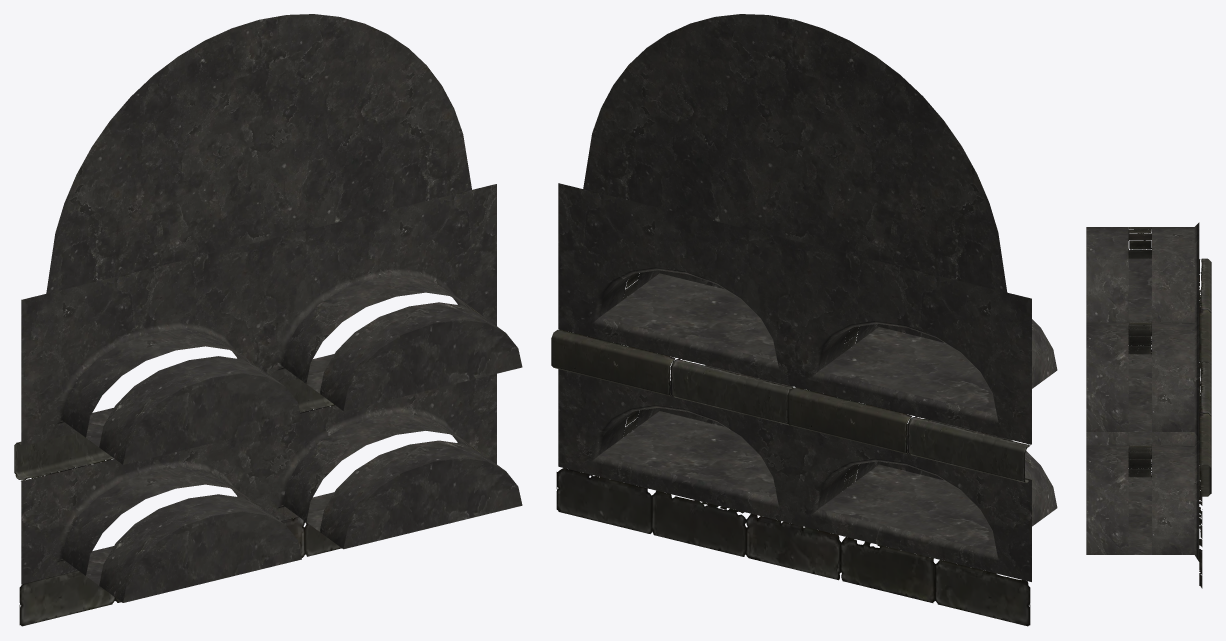
3 views of the same model, side by side, from view 1: azimuth 30°, elevation 25°; view 2: azimuth 150°, elevation 25°; view 3: azimuth 270°, elevation 25° (orthographic). The views are drawn at different scales.
Parts seen in each view (by area): view 1: SM_Dowdun_Vaulted_Wall_12x12_03_LOD0; view 2: SM_Dowdun_Vaulted_Wall_12x12_03_LOD0; view 3: SM_Dowdun_Vaulted_Wall_12x12_03_LOD0.
Boxes of the visible parts, box(x1,y1,x2,y2) form: SM_Dowdun_Vaulted_Wall_12x12_03_LOD0: box(14, 14, 522, 626); SM_Dowdun_Vaulted_Wall_12x12_03_LOD0: box(551, 14, 1057, 626); SM_Dowdun_Vaulted_Wall_12x12_03_LOD0: box(1086, 222, 1211, 588).
Size of the model in its own units: 11.39 by 12.6 by 2.93.
2 materials, 2 textured.
